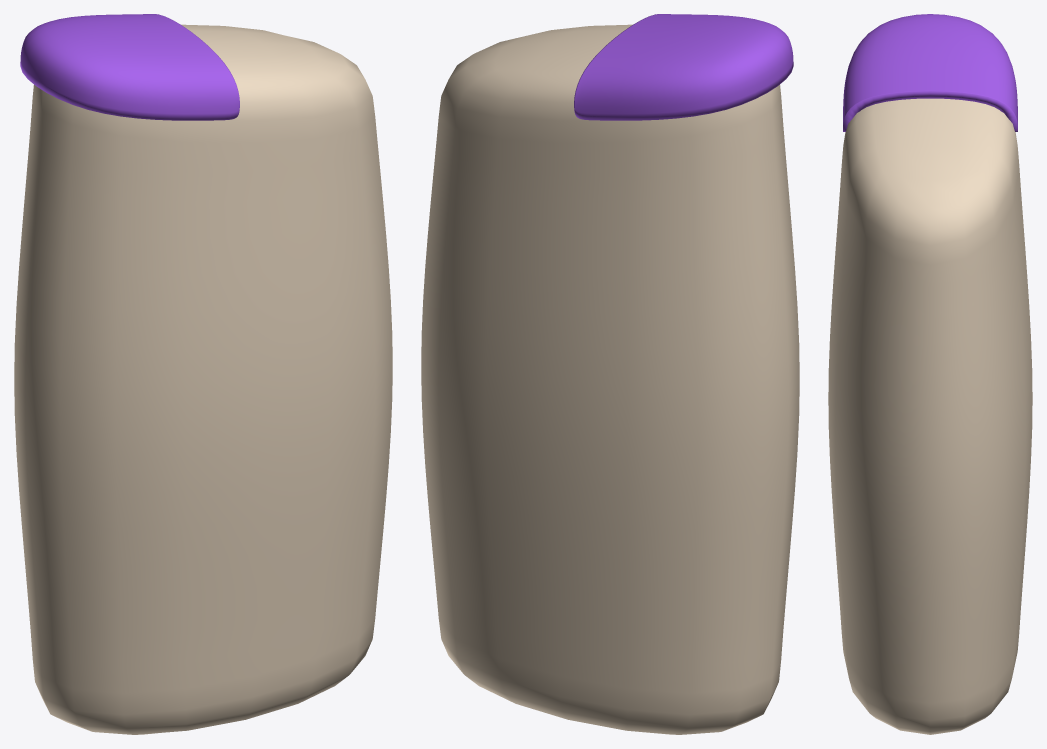
File: SM_Shampoo_Bottom_C.fbx
The picture shows the model from 3 angles, left to right: view 1: azimuth 30°, elevation 25°; view 2: azimuth 150°, elevation 25°; view 3: azimuth 270°, elevation 25°; orthographic projection. The views are drawn at different scales.
Visible parts, largest first — view 1: Cube, Cube.001; view 2: Cube, Cube.001; view 3: Cube, Cube.001.
Boxes of the visible parts, box(x1,y1,x2,y2) form: Cube: box(14, 24, 392, 734); Cube.001: box(20, 14, 239, 120); Cube: box(421, 24, 799, 734); Cube.001: box(574, 14, 793, 120); Cube: box(828, 98, 1032, 734); Cube.001: box(843, 14, 1017, 131).
Size of the model in its own units: 64.17 by 120 by 36.24.
